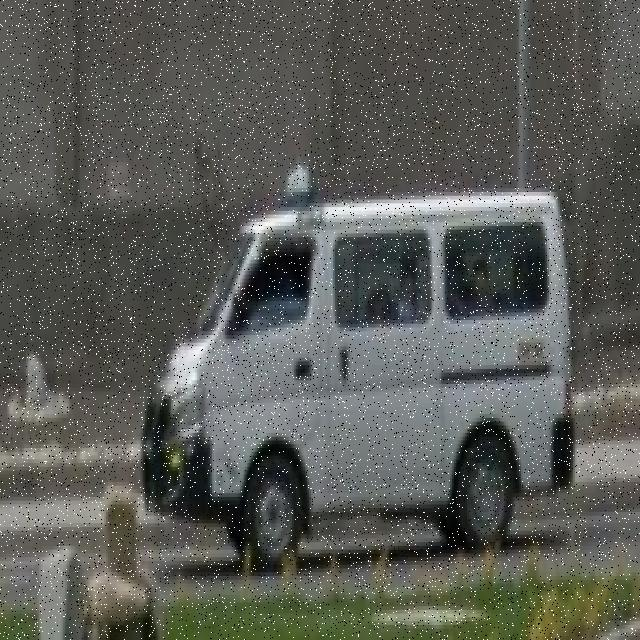cars: (150, 195, 579, 577)
